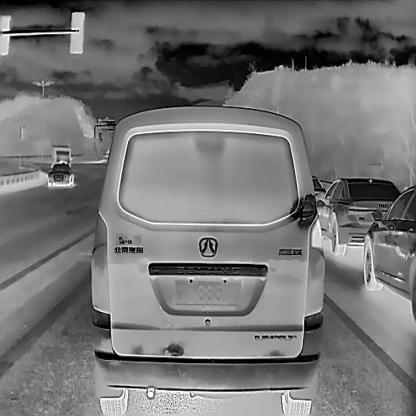car: (90, 104, 328, 415), (310, 171, 406, 256), (362, 183, 415, 320), (47, 163, 75, 187), (50, 145, 72, 166)
